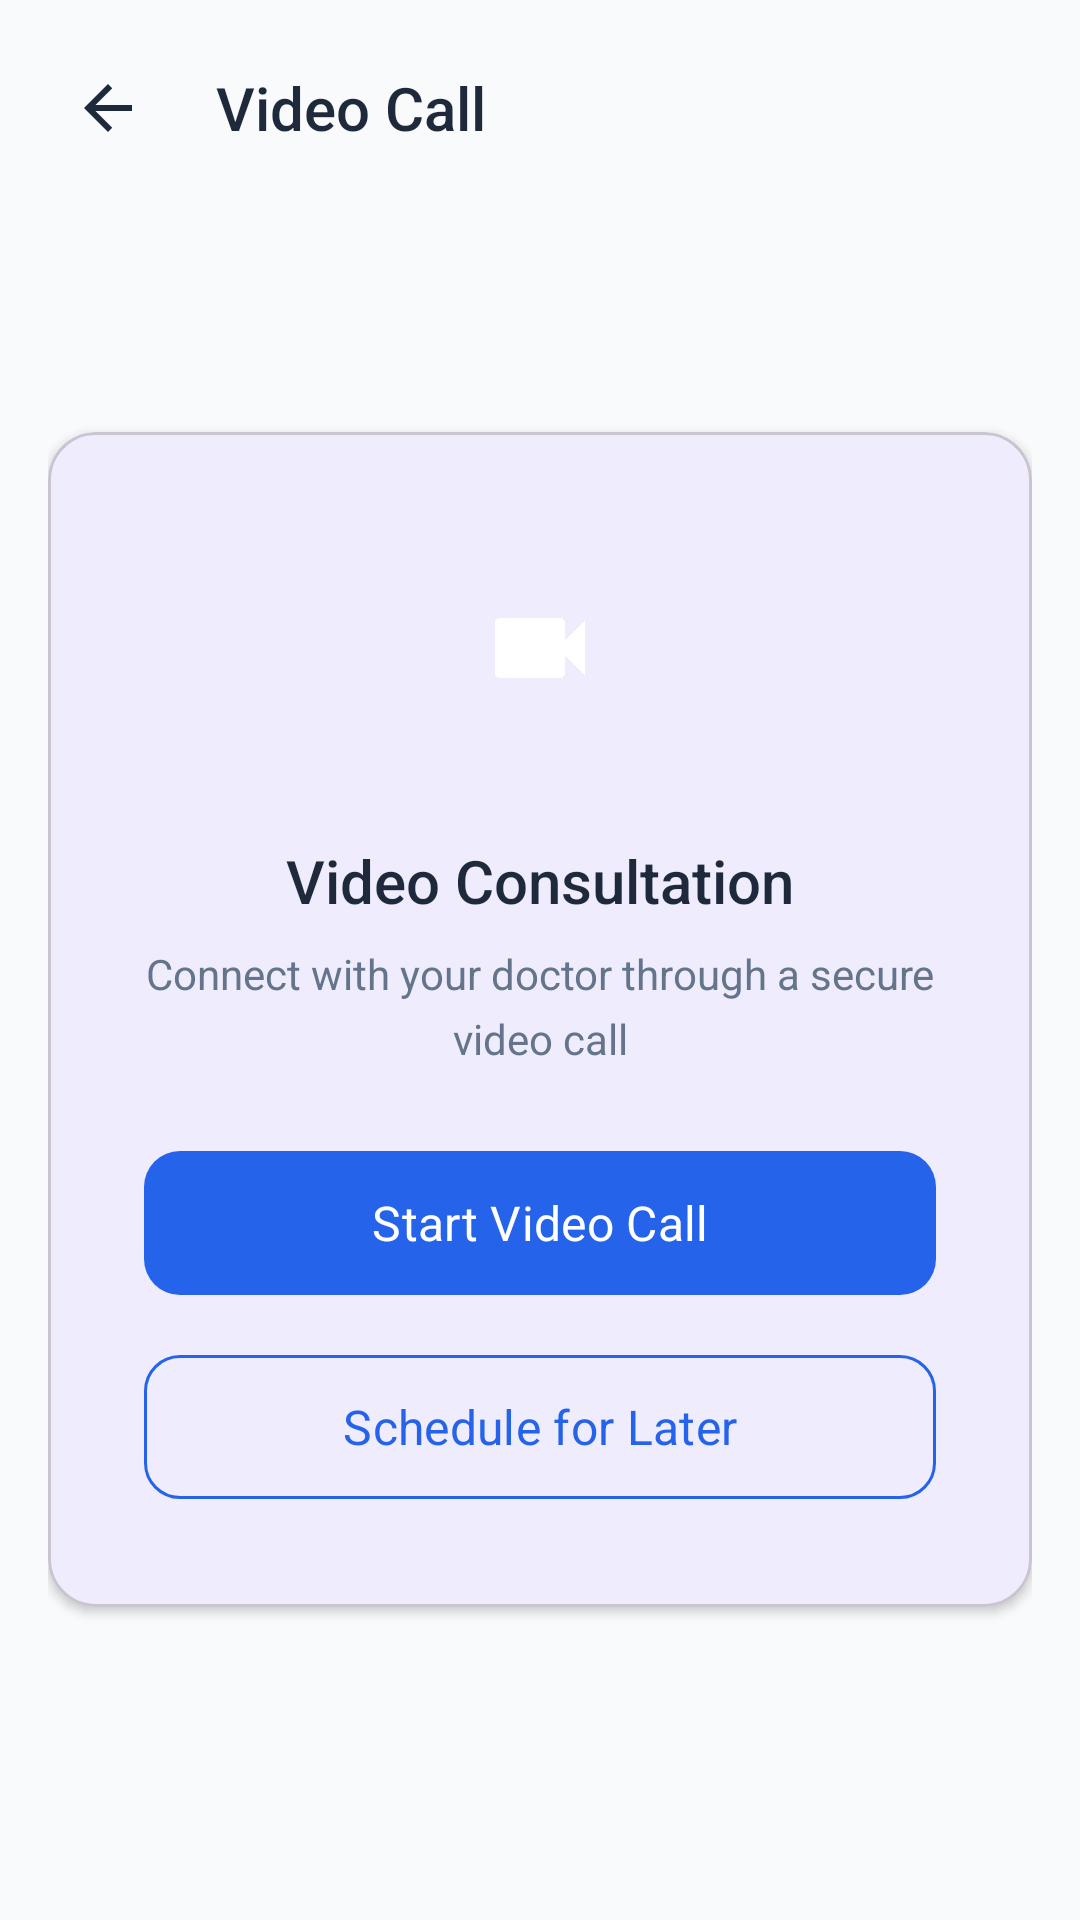

Point at icon controls on the screen. Image size 1080x1920, points as (x=x, y=y).
Back: (x=108, y=108)
